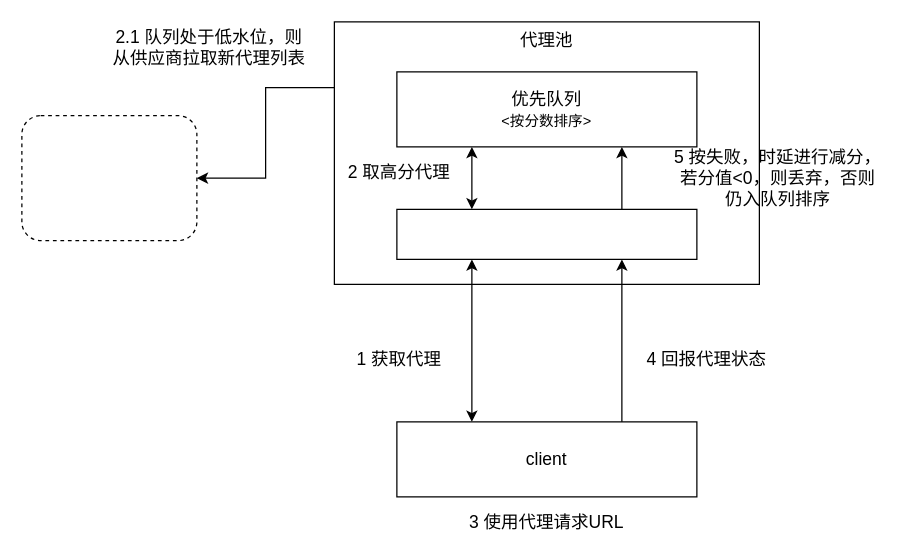
Image size: 906x556. Some labels were removed from this diagram. Here are the shapes that lost their labels. From the top down, the centre of each, then its label:
At (x=109, y=177): "代理供应商".
At (x=546, y=233): "grpc接口".
